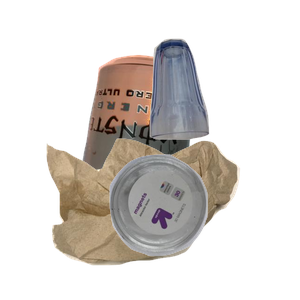glass: (147, 36, 300, 168)
metal: (73, 52, 263, 232)
plastic: (107, 152, 300, 300)
trash: (44, 136, 277, 300)
